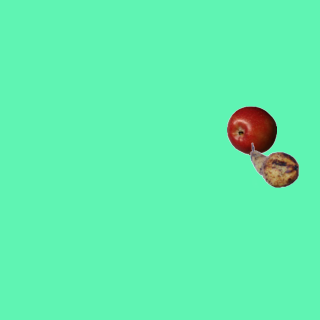Apple Braeburn: (226, 105, 276, 155)
Pear Abate: (249, 140, 299, 190)
